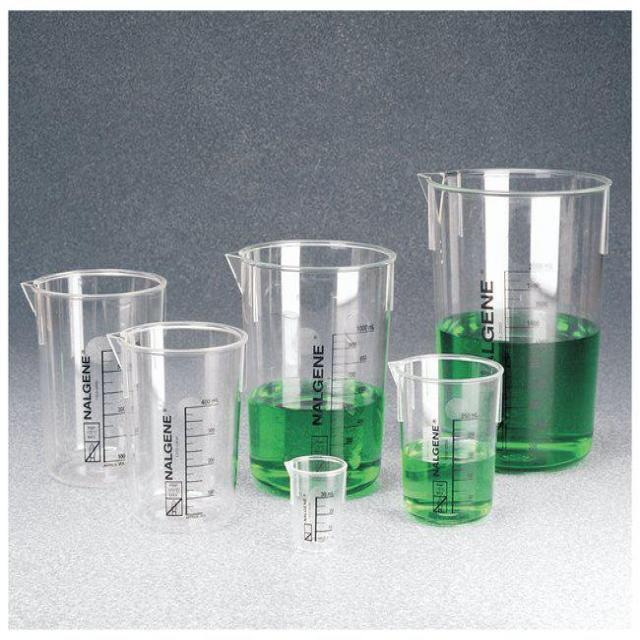glass: (106, 320, 252, 532), (283, 452, 350, 560)
